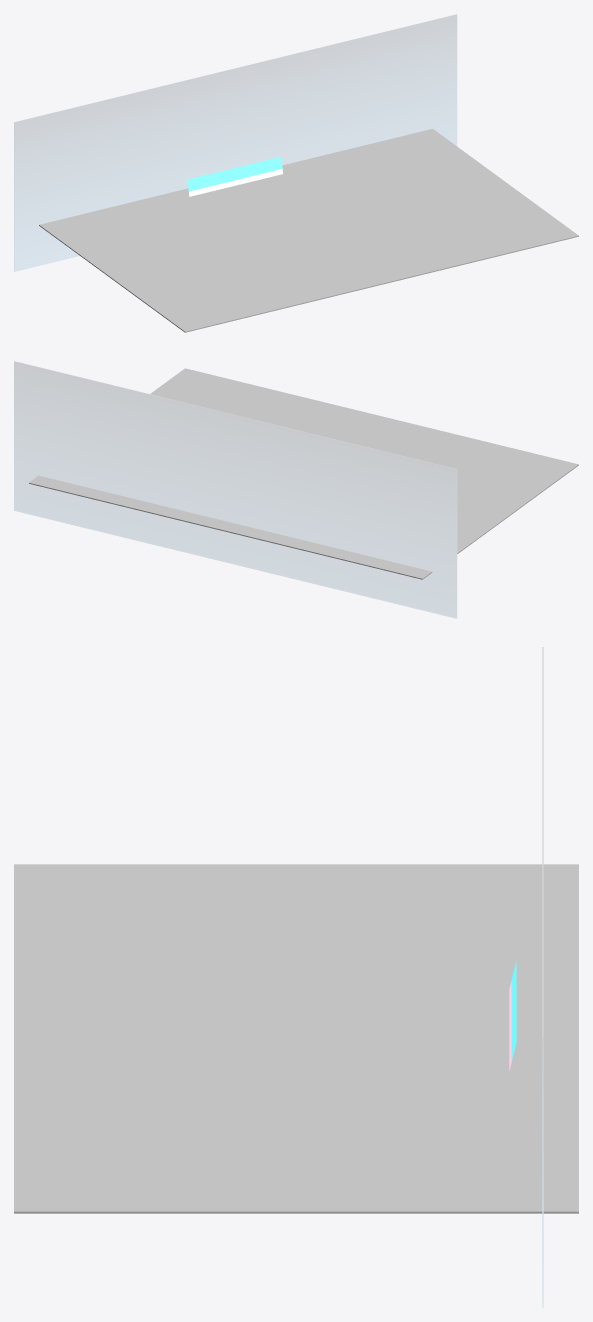
The model's file is f_trans.glb.
3 renders of one model, top to bottom at view 1: azimuth 30°, elevation 25°; view 2: azimuth 150°, elevation 25°; view 3: azimuth 270°, elevation 25°, orthographic. The views are drawn at different scales.
Parts seen in each view (by area): view 1: Ground contact / transparent shadow receiver.030, Sky gradient / editable material.030, Flag cloth / full-bleed source fields.002; view 2: Sky gradient / editable material.030, Ground contact / transparent shadow receiver.030; view 3: Ground contact / transparent shadow receiver.030, Sky gradient / editable material.030.
Boxes of the visible parts, x1,y1,x2,y2 form: Ground contact / transparent shadow receiver.030: [39, 128, 578, 332]; Sky gradient / editable material.030: [14, 14, 457, 271]; Flag cloth / full-bleed source fields.002: [187, 157, 282, 196]; Sky gradient / editable material.030: [14, 361, 457, 618]; Ground contact / transparent shadow receiver.030: [29, 368, 578, 579]; Ground contact / transparent shadow receiver.030: [14, 864, 578, 1213]; Sky gradient / editable material.030: [542, 647, 543, 1307].
Bounding box in the file's own units: 180 × 58 × 110.
